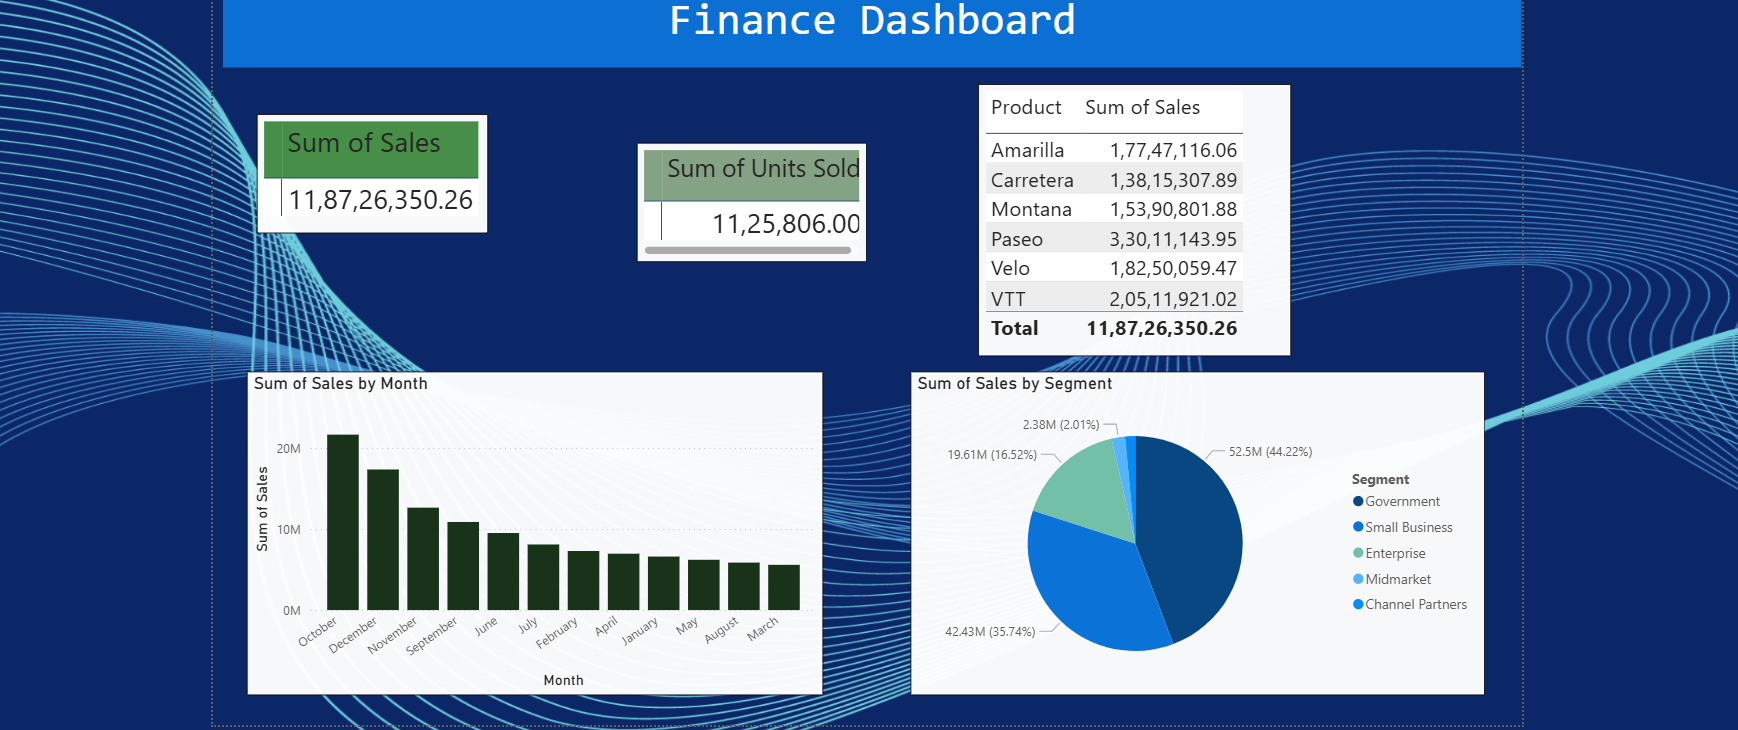

The dashboard page shown, as its layout file describes it:
{"tool":"powerbi","page":{"name":"Page 1","canvas":[1280,720],"ordinal":0},"visuals":[{"type":"textbox","box":[9.6,0,1270.7,76.8],"z":0},{"type":"pivotTable","fields":{"Values":["Sum(Sheet1. Sales)"]},"box":[42.5,122.1,226.4,116.6],"z":1000},{"type":"pivotTable","fields":{"Values":["Sum(Sheet1.Units Sold)"]},"box":[414.4,150.9,225,116.6],"z":2000},{"type":"clusteredColumnChart","fields":{"Category":["Sheet1.Date.Variation.Date Hierarchy.Year","Sheet1.Date.Variation.Date Hierarchy.Quarter","Sheet1.Date.Variation.Date Hierarchy.Month","Sheet1.Date.Variation.Date Hierarchy.Day"],"Y":["Sum(Sheet1. Sales)"]},"box":[32.9,374.6,564,317],"z":3000},{"type":"pieChart","fields":{"Y":["Sum(Sheet1. Sales)"],"Category":["Sheet1.Segment"]},"box":[682,374.6,561.2,317],"z":4000},{"type":"tableEx","fields":{"Values":["Sheet1.Product","Sum(Sheet1. Sales)"]},"box":[747.9,93.3,306,266.2],"z":5000}]}

Visuals, with their boxes on the page's 1280x720 design canvas (x1, y1, x2, y2). These are canvas units, not pixel positions in the 1738x730 screenshot, which may show the page scaled, cropped or inside an application window:
textbox: select_region(10, 0, 1280, 77)
pivotTable - Sum(Sheet1. Sales): select_region(42, 122, 269, 239)
pivotTable - Sum(Sheet1.Units Sold): select_region(414, 151, 639, 268)
clusteredColumnChart - Sheet1.Date.Variation.Date Hierarchy.Year x Sheet1.Date.Variation.Date Hierarchy.Quarter: select_region(33, 375, 597, 692)
pieChart - Sum(Sheet1. Sales) x Sheet1.Segment: select_region(682, 375, 1243, 692)
tableEx - Sheet1.Product x Sum(Sheet1. Sales): select_region(748, 93, 1054, 360)
